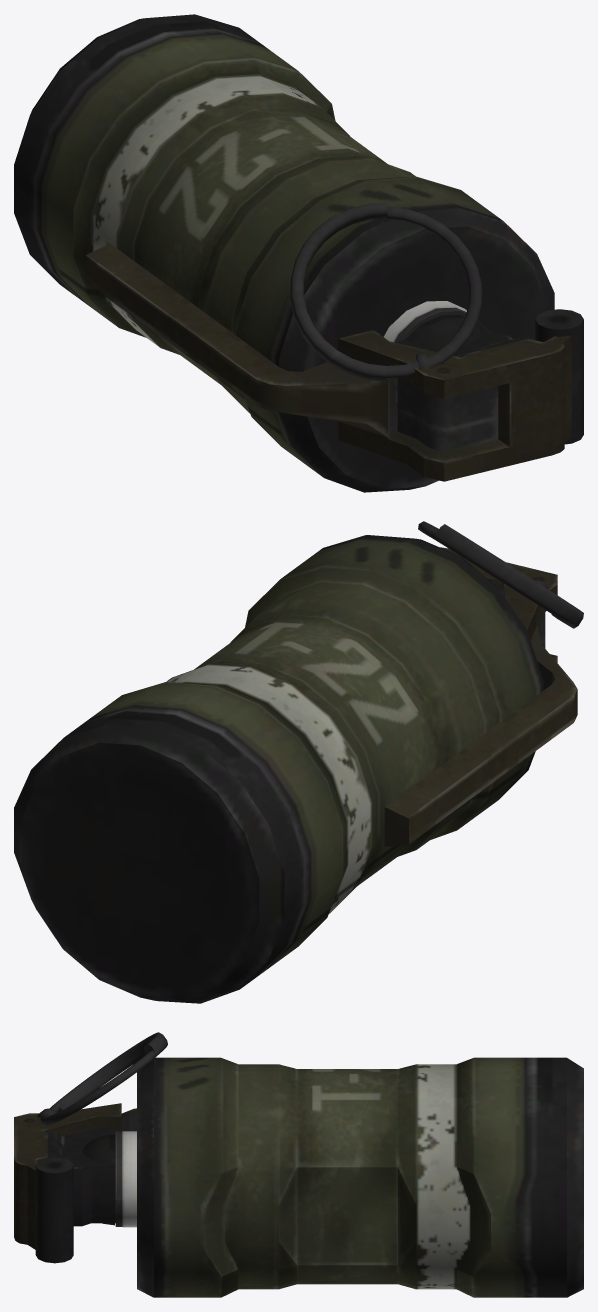
File: t6_wpn_grenade_smoke_view_LOD0.obj
3 views of the same model, one above another, from view 1: azimuth 30°, elevation 25°; view 2: azimuth 150°, elevation 25°; view 3: azimuth 270°, elevation 25° (orthographic). The views are drawn at different scales.
Parts seen in each view (by area): view 1: mtl_t6_wpn_grenade_smoke; view 2: mtl_t6_wpn_grenade_smoke; view 3: mtl_t6_wpn_grenade_smoke.
Boxes of the visible parts, box(x1,y1,x2,y2) form: mtl_t6_wpn_grenade_smoke: box(14, 14, 583, 492); mtl_t6_wpn_grenade_smoke: box(14, 521, 583, 1003); mtl_t6_wpn_grenade_smoke: box(14, 1032, 583, 1297).
Size of the model in its own units: 6.93 by 6.46 by 14.45.
